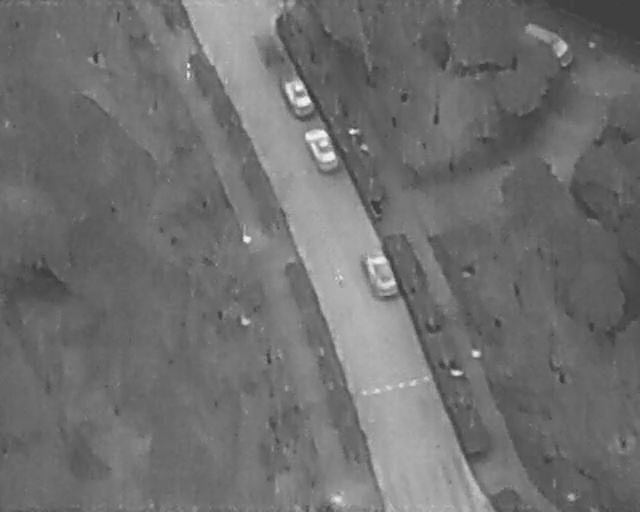Car: (358, 245, 403, 303), (276, 69, 320, 123), (301, 122, 343, 176)
